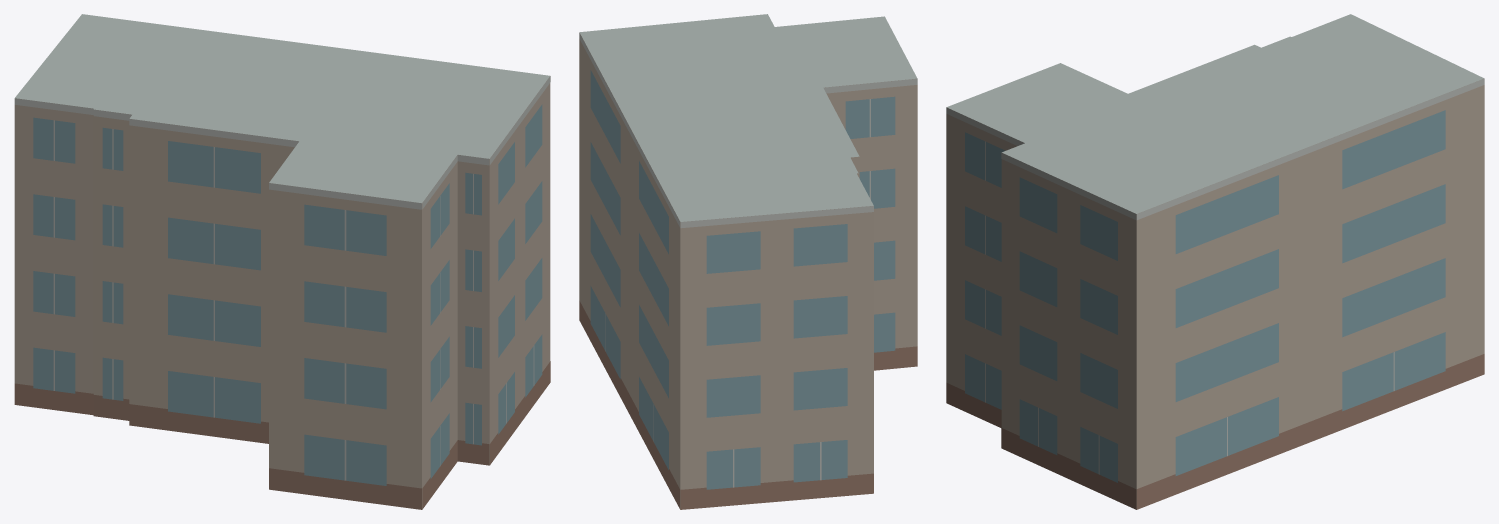
Rendered from survey-upis-32777433.glb.
3 renders of one model, left to right at view 1: azimuth 30°, elevation 25°; view 2: azimuth 150°, elevation 25°; view 3: azimuth 270°, elevation 25°, orthographic. The views are drawn at different scales.
Visible parts, largest first — view 1: survey-upis-32777433.tmp; view 2: survey-upis-32777433.tmp; view 3: survey-upis-32777433.tmp.
Boxes of the visible parts, bbox=[...] form: survey-upis-32777433.tmp: bbox=[14, 14, 550, 509]; survey-upis-32777433.tmp: bbox=[579, 14, 917, 509]; survey-upis-32777433.tmp: bbox=[946, 14, 1484, 509].
Bounding box in the file's own units: 16.39 × 11.3 × 18.64.
